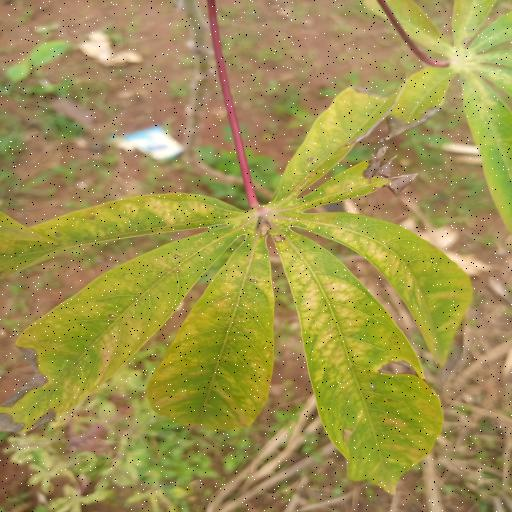Cassava_Mosaic: (0, 87, 478, 496)
